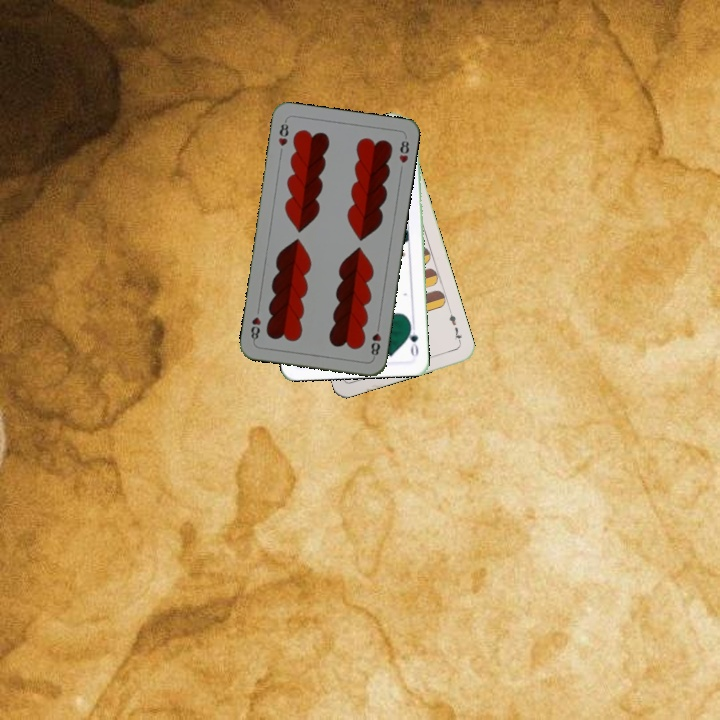E7: (445, 307, 464, 346)
GO: (404, 319, 421, 358)
H8: (367, 320, 384, 361), (274, 117, 291, 149)
